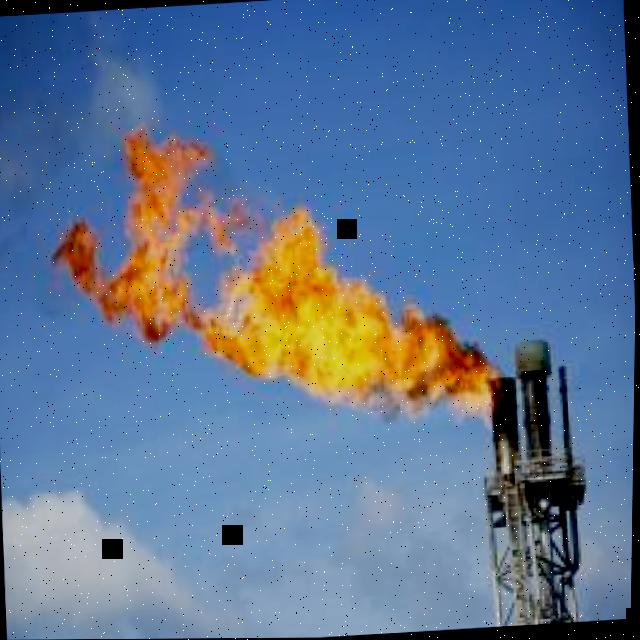fire: (50, 120, 505, 432)
